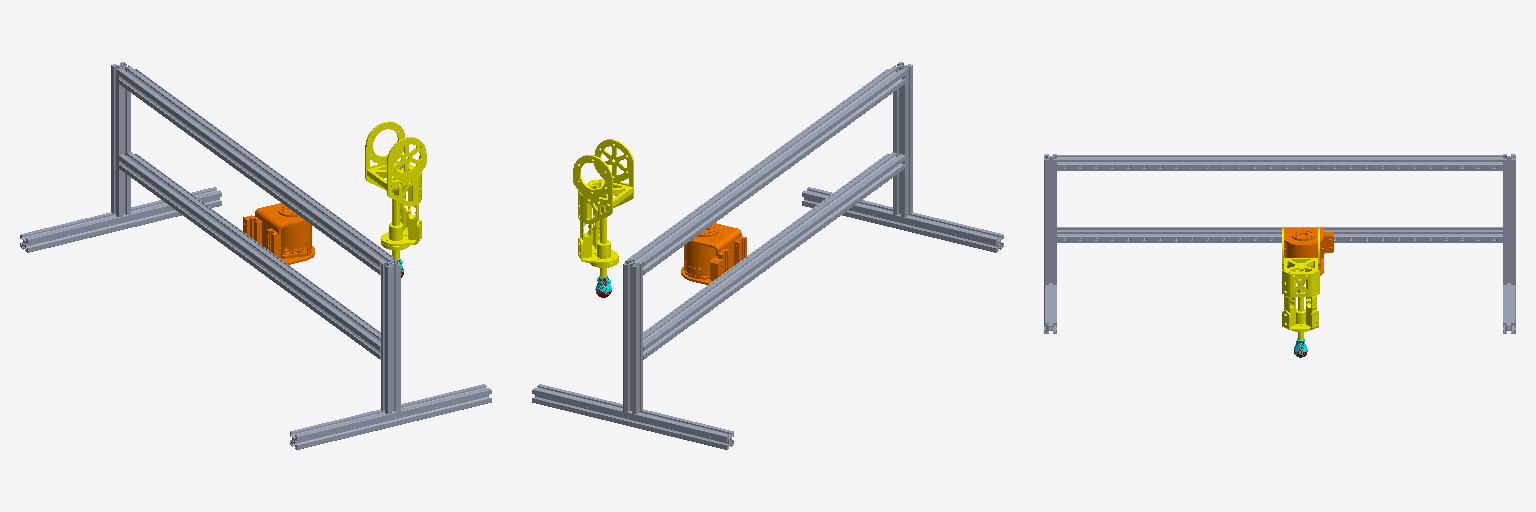
robot.urdf — test_station:
<?xml version="1.0"?>
<robot name="test_station">

    <!-- WORLD LINK -->
    <link name="world">
        <inertial>
            <mass value="0.001"/>
            <inertia ixx="0.000001" ixy="0" ixz="0" iyy="0.000001" iyz="0" izz="0.000001"/>
        </inertial>
    </link>

    <!-- WORLD TO BASE JOINT (ROTATED 90° AROUND X-AXIS) -->
    <joint name="world_to_base" type="fixed">
        <parent link="world"/>
        <child link="base_link"/>
        <origin xyz="0 0 0" rpy="1.5708 0 0"/>
    </joint>

    <!-- BASE LINK -->
    <link name="base_link">
        <inertial>
            <origin xyz="-0.140609630307133 0.140146936008361 0.359999999999999" rpy="0 0 0" />
            <mass value="1.36955126412918" />
            <inertia
                ixx="0.0486076021163975"
                ixy="1.70511398907679E-19"
                ixz="1.82006048915522E-16"
                iyy="0.0491079736049733"
                iyz="2.37689541531146E-17"
                izz="0.00117016823735803" />
        </inertial>
        <visual>
            <origin xyz="0 0 0" rpy="0 0 0" />
            <geometry>
                <mesh filename="package://test_station_description/meshes/base_link.STL" />
            </geometry>
            <material name="light_grey">
                <color rgba="0.666666666666667 0.698039215686274 0.768627450980392 1" />
            </material>
        </visual>
        <collision>
            <origin xyz="0 0 0" rpy="0 0 0" />
            <geometry>
                <mesh filename="package://test_station_description/meshes/base_link.STL" />
            </geometry>
        </collision>
    </link>

    <!-- LINEAR LEFT RIGHT JOINT -->
    <joint name="linear_left_right_joint" type="prismatic">
        <origin xyz="-0.132 0.217 0.0475" rpy="0 0 0" />
        <parent link="base_link" />
        <child link="linear_left_right_link" />
        <axis xyz="0 0 1" />
        <limit 
            lower="0.055" 
            upper="0.495" 
            effort="100.0" 
            velocity="0.5" />
        <dynamics damping="10.0" friction="1.0"/>
    </joint>

    <link name="linear_left_right_link">
        <inertial>
            <origin xyz="-0.00489063949800162 -0.0625565073932747 0.00080368741228154" rpy="0 0 0" />
            <mass value="0.506852401520358" />
            <inertia
                ixx="0.00169627285734428"
                ixy="1.58540005954467E-08"
                ixz="-4.41899413466922E-12"
                iyy="0.000138748817102263"
                iyz="-1.95167814301692E-07"
                izz="0.00156552554170133" />
        </inertial>
        <visual>
            <origin xyz="0 0 0" rpy="0 0 0" />
            <geometry>
                <mesh filename="package://test_station_description/meshes/linear_left_right_link.STL" />
            </geometry>
            <material name="purple">
                <color rgba="0.5 0.0 0.5 1.0" />
            </material>
        </visual>
        <collision>
            <origin xyz="0 0 0" rpy="0 0 0" />
            <geometry>
                <mesh filename="package://test_station_description/meshes/linear_left_right_link.STL" />
            </geometry>
        </collision>
    </link>

    <!-- LINEAR UP DOWN JOINT -->
    <joint name="linear_up_down_joint" type="prismatic">
        <origin xyz="0.01652 -0.12255 0.00496" rpy="1.5708 -1.5708 0" />
        <parent link="linear_left_right_link" />
        <child link="linear_up_down_link" />
        <axis xyz="0 0 1" />
        <limit 
            lower="-0.099" 
            upper="0.011" 
            effort="100.0" 
            velocity="0.5" />
        <dynamics damping="10.0" friction="1.0"/>
    </joint>

    <link name="linear_up_down_link">
        <inertial>
            <origin xyz="-0.00772421363980236 -0.0245124451507608 0.000148674326873294" rpy="0 0 0" />
            <mass value="0.0650925389215452" />
            <inertia
                ixx="4.13686670107745E-05"
                ixy="1.19900593985171E-06"
                ixz="-1.22768024957686E-10"
                iyy="3.8653149726607E-05"
                iyz="-3.33822590624228E-11"
                izz="3.36302971003723E-05" />
        </inertial>
        <visual>
            <origin xyz="0 0 0" rpy="0 0 0" />
            <geometry>
                <mesh filename="package://test_station_description/meshes/linear_up_down_link.STL" />
            </geometry>
            <material name="orange">
                <color rgba="1.0 0.5 0.0 1.0" />
            </material>
        </visual>
        <collision>
            <origin xyz="0 0 0" rpy="0 0 0" />
            <geometry>
                <mesh filename="package://test_station_description/meshes/linear_up_down_link.STL" />
            </geometry>
        </collision>
    </link>

    <!-- HIP JOINT -->
    <joint name="hip_joint" type="revolute">
        <origin xyz="0 -0.04148 0.0005" rpy="3.1416 0 -1.5708" />
        <parent link="linear_up_down_link" />
        <child link="hip_Link" />
        <axis xyz="0 0 1" />
        <limit 
            lower="-1.2568" 
            upper="1.2568" 
            effort="50.0" 
            velocity="2.0" />
        <dynamics damping="0.5" friction="0.1"/>
    </joint>

    <link name="hip_Link">
        <inertial>
            <origin xyz="0.0430110981727738 -0.00264596170489376 0.00189483041596425" rpy="0 0 0" />
            <mass value="0.119884538653852" />
            <inertia
                ixx="9.68903173356646E-05"
                ixy="8.34528714502665E-06"
                ixz="2.58859686125778E-06"
                iyy="0.000130089779114224"
                iyz="-1.81408997453309E-07"
                izz="0.000125705288980676" />
        </inertial>
        <visual>
            <origin xyz="0 0 0" rpy="0 0 0" />
            <geometry>
                <mesh filename="package://test_station_description/meshes/hip_Link.STL" />
            </geometry>
            <material name="green">
                <color rgba="0.0 0.8 0.0 1.0" />
            </material>
        </visual>
        <collision>
            <origin xyz="0 0 0" rpy="0 0 0" />
            <geometry>
                <mesh filename="package://test_station_description/meshes/hip_Link.STL" />
            </geometry>
        </collision>
    </link>

    <!-- KNEE JOINT -->
    <joint name="knee_joint" type="revolute">
        <origin xyz="0.077999 0 0.0015006" rpy="1.5708 0 0" />
        <parent link="hip_Link" />
        <child link="knee_link" />
        <axis xyz="0 0 1" />
        <limit 
            lower="-1.2568" 
            upper="1.2568" 
            effort="50.0" 
            velocity="2.0" />
        <dynamics damping="0.5" friction="0.1"/>
    </joint>

    <link name="knee_link">
        <inertial>
            <origin xyz="0.0397240573219275 0.0574992173373844 0.00761488455351636" rpy="0 0 0" />
            <mass value="0.154771861022665" />
            <inertia
                ixx="0.000131437860373885"
                ixy="-8.62804047137843E-05"
                ixz="3.6658676257659E-11"
                iyy="0.000132904353189807"
                iyz="-1.21353524894778E-10"
                izz="0.000225517110242721" />
        </inertial>
        <visual>
            <origin xyz="0 0 0" rpy="0 0 0" />
            <geometry>
                <mesh filename="package://test_station_description/meshes/knee_link.STL" />
            </geometry>
            <material name="blue">
                <color rgba="0.0 0.0 0.8 1.0" />
            </material>
        </visual>
        <collision>
            <origin xyz="0 0 0" rpy="0 0 0" />
            <geometry>
                <mesh filename="package://test_station_description/meshes/knee_link.STL" />
            </geometry>
        </collision>
    </link>

    <!-- ANKLE JOINT -->
    <joint name="ankle_joint" type="revolute">
        <origin xyz="0.080874 0.08455 0" rpy="0 0 0" />
        <parent link="knee_link" />
        <child link="ankle_link" />
        <axis xyz="0 0 1" />
        <limit 
            lower="-0.3142" 
            upper="2.8278" 
            effort="50.0" 
            velocity="2.0" />
        <dynamics damping="0.5" friction="0.1"/>
    </joint>

    <link name="ankle_link">
        <inertial>
            <origin xyz="0.0047003003487126 -0.0612352573830351 0.000378240165937002" rpy="0 0 0" />
            <mass value="0.306270137321633" />
            <inertia
                ixx="0.000199114272430942"
                ixy="9.79867730835118E-06"
                ixz="6.4521979966009E-07"
                iyy="0.000115140693880005"
                iyz="-3.14367522499582E-06"
                izz="0.000174477589991744" />
        </inertial>
        <visual>
            <origin xyz="0 0 0" rpy="0 0 0" />
            <geometry>
                <mesh filename="package://test_station_description/meshes/ankle_link.STL" />
            </geometry>
            <material name="yellow">
                <color rgba="1.0 1.0 0.0 1.0" />
            </material>
        </visual>
        <collision>
            <origin xyz="0 0 0" rpy="0 0 0" />
            <geometry>
                <mesh filename="package://test_station_description/meshes/ankle_link.STL" />
            </geometry>
        </collision>
    </link>

    <!-- FOOT POINTER JOINT -->
    <joint name="ankle_to_foot_pointer" type="fixed">
        <parent link="ankle_link"/>
        <child link="foot_pointer"/>
        <origin xyz="0 -0.18239 0" rpy="0 0 0"/>
    </joint>

    <!-- FOOT POINTER LINK -->
    <link name="foot_pointer">
        <inertial>
            <origin xyz="4.23690516004882E-09 0.00469007504313962 3.16711928072255E-08" rpy="0 0 0" />
            <mass value="0.00616673834560594" />
            <inertia
                ixx="4.10445260534E-07"
                ixy="-7.57023234258261E-13"
                ixz="9.0993115749904E-13"
                iyy="3.1036728395265E-07"
                iyz="-1.63648124596683E-12"
                izz="4.06602144316901E-07" />
        </inertial>
        <visual>
            <origin xyz="0 0 0" rpy="0 0 0" />
            <geometry>
                <mesh filename="package://test_station_description/meshes/end_effector.STL" />
            </geometry>
            <material name="red">
                <color rgba="0.8 0.0 0.0 1.0" />
            </material>
        </visual>
        <collision>
            <origin xyz="0 0 0" rpy="0 0 0" />
            <geometry>
                <mesh filename="package://test_station_description/meshes/end_effector.STL" />
            </geometry>
        </collision>
    </link>

    <!-- END EFFECTOR JOINT -->
    <joint name="foot_pointer_to_end_effector" type="fixed">
        <parent link="foot_pointer"/>
        <child link="end_effector"/>
        <origin xyz="0 -0.0076114 0" rpy="0 0 0"/>
    </joint>

    <!-- END EFFECTOR LINK -->
    <link name="end_effector">
        <inertial>
            <origin xyz="-0.000698570366899576 0.0136784915768892 2.06407254899066E-08" rpy="0 0 0" />
            <mass value="0.0000001" />
            <inertia
                ixx="4.1394614742321E-07"
                ixy="-7.5702324693834E-13"
                ixz="9.09539836403223E-13"
                iyy="3.18848014809972E-07"
                iyz="-1.63645869601826E-12"
                izz="4.15082868763662E-07" />
        </inertial>
        <visual>
            <origin xyz="0 0 0" rpy="0 0 0" />
            <geometry>
                <mesh filename="package://test_station_description/meshes/contract_point.STL" />
            </geometry>
            <material name="cyan">
                <color rgba="0.0 1.0 1.0 1.0" />
            </material>
        </visual>
        <collision>
            <origin xyz="0 0 0" rpy="0 0 0" />
            <geometry>
                <mesh filename="package://test_station_description/meshes/contract_point.STL" />
            </geometry>
        </collision>
    </link>

</robot>

--- Render facts (derived) ---
The picture shows the robot from 3 angles, left to right: view 1: azimuth 30°, elevation 25°; view 2: azimuth 150°, elevation 25°; view 3: azimuth 270°, elevation 25°; orthographic projection.
Robot: test_station — 9 links, 8 joints (3 revolute, 2 prismatic, 3 fixed); root link world; default pose: joints at zero except 1 at the middle of their limits (linear_left_right_joint = 0.275).
Links seen in each view (by area): view 1: base_link, ankle_link, linear_up_down_link; view 2: base_link, ankle_link, linear_up_down_link; view 3: base_link, ankle_link, linear_up_down_link.
Link boxes in pixels (x1,y1,x2,y2): base_link: (20, 62, 491, 449); ankle_link: (365, 121, 426, 259); linear_up_down_link: (243, 203, 314, 264); base_link: (532, 62, 1003, 449); ankle_link: (573, 139, 633, 277); linear_up_down_link: (681, 223, 746, 284); base_link: (1044, 154, 1515, 333); ankle_link: (1282, 228, 1319, 339); linear_up_down_link: (1284, 228, 1333, 275).
Bounding box of the posed robot: 0.4149 × 0.74 × 0.237 m (x, y, z).
5 mesh visuals loaded from 8 distinct referenced files (5 binary STL); not drawn: 3 (reference not matched to a file when rendering).